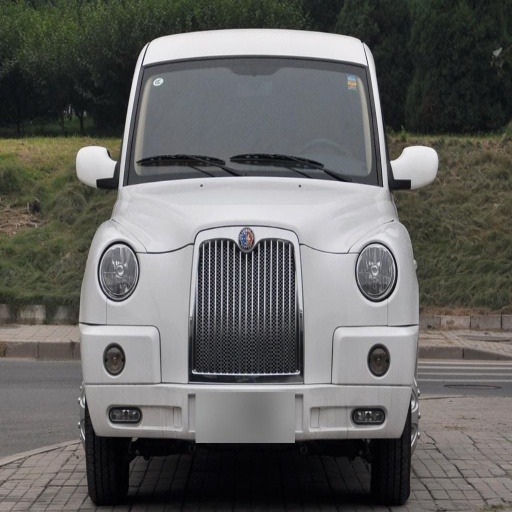front_bumper: (84, 227, 416, 436)
front_right_light: (99, 251, 137, 298)
hood: (118, 176, 392, 252)
left_mirror: (391, 146, 439, 191)
